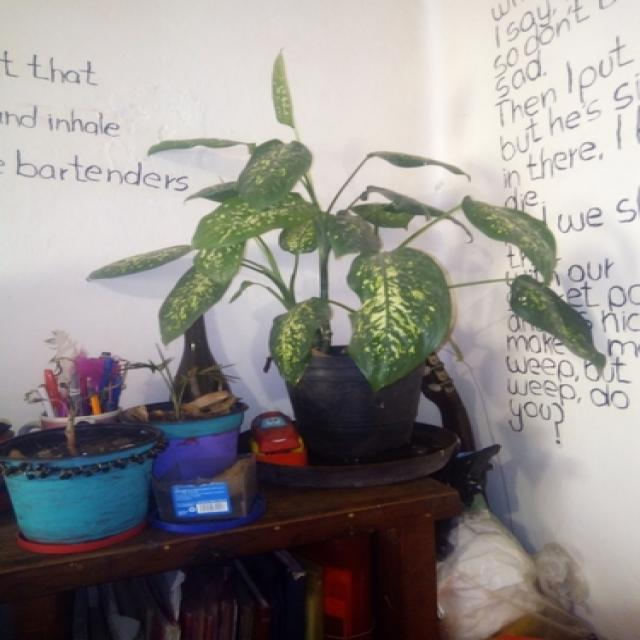dieffenbachia-oVHx: (87, 46, 606, 392)
